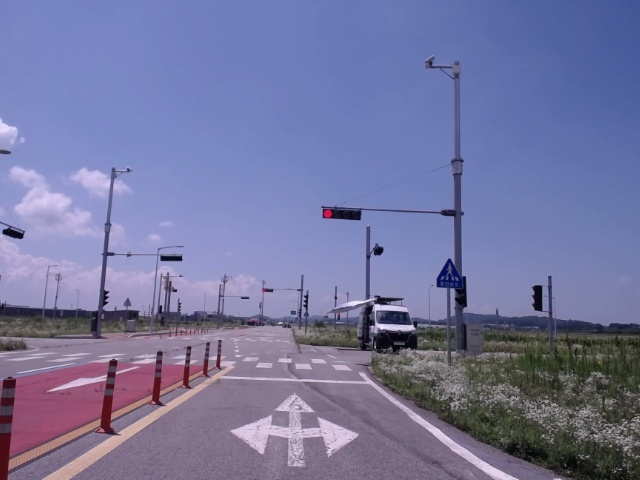red_4: (322, 208, 361, 220)
